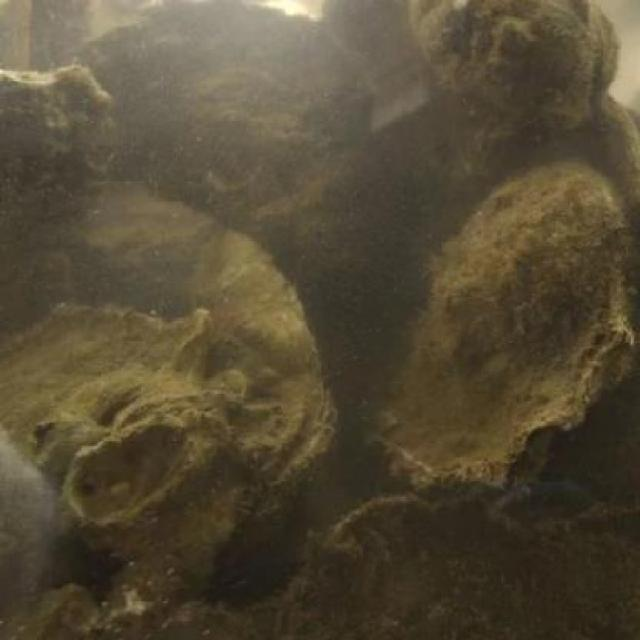Oyster- Indeterminate: (45, 406, 232, 548), (413, 0, 615, 116), (0, 64, 117, 258)
Oyster-Open: (237, 369, 352, 509)
